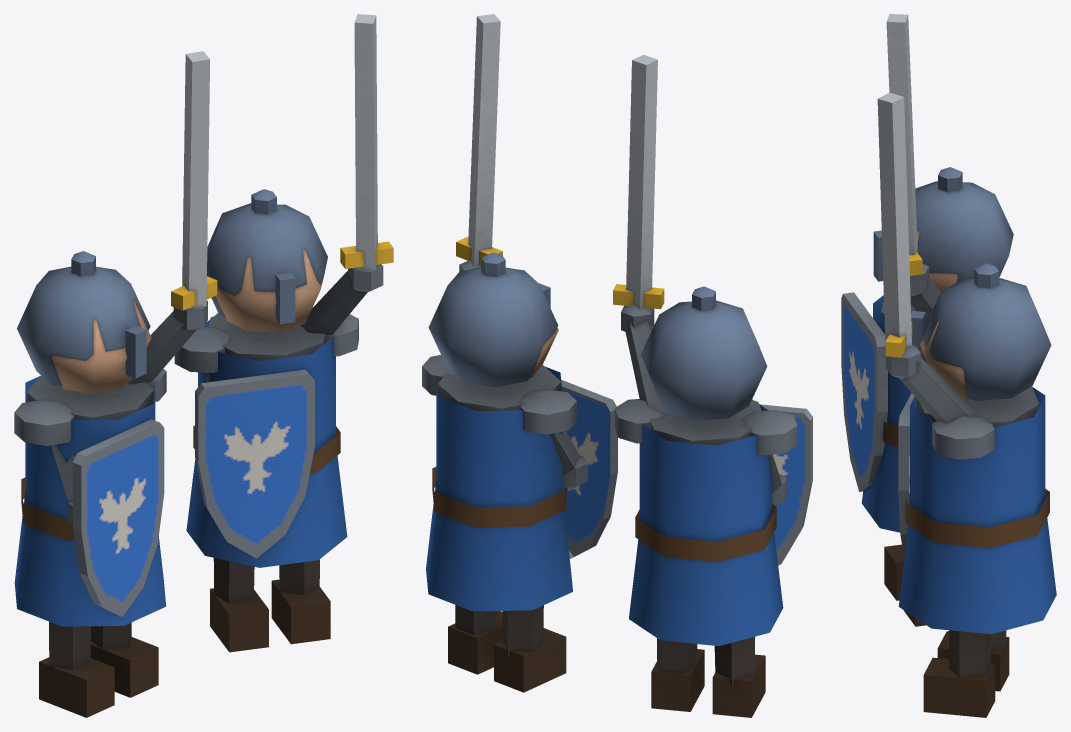
File: sentry_dl3_blue.glb
3 views of the same model, side by side, from view 1: azimuth 30°, elevation 25°; view 2: azimuth 150°, elevation 25°; view 3: azimuth 270°, elevation 25° (orthographic). The views are drawn at different scales.
Parts seen in each view (by area): view 1: sentry_dl3_blue; view 2: sentry_dl3_blue; view 3: sentry_dl3_blue.
Boxes of the visible parts, x1,y1,x2,y2 form: sentry_dl3_blue: [14, 14, 393, 717]; sentry_dl3_blue: [422, 14, 812, 717]; sentry_dl3_blue: [841, 14, 1056, 717].
Size of the model in its own units: 0.3402 by 0.5703 by 0.1787.
Materials: 1 (1 with a texture image).
